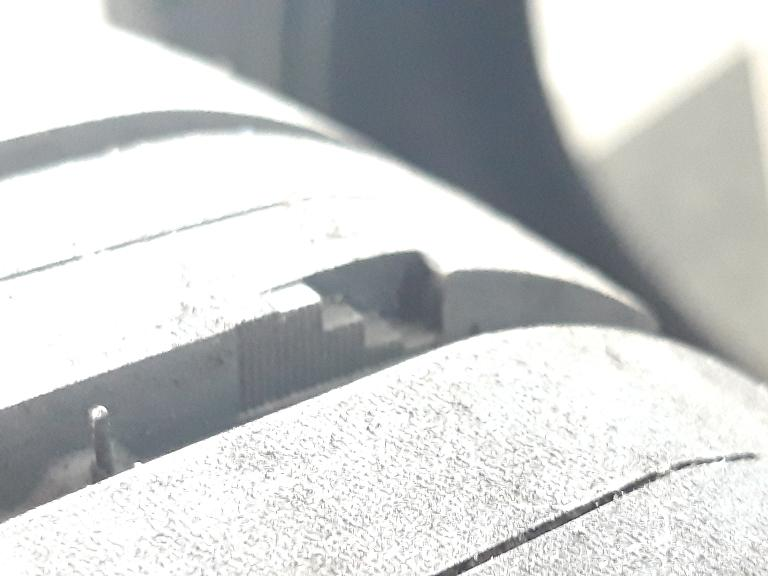temoin:75: (255, 242, 461, 398)
